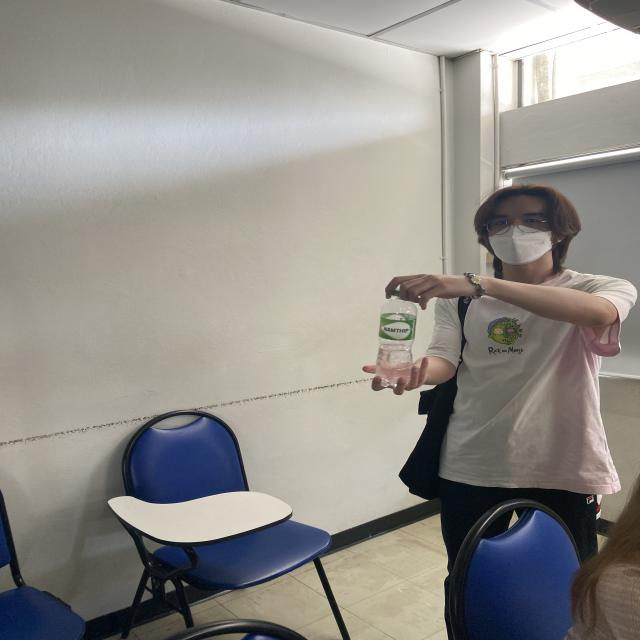bottle: (373, 286, 419, 388)
